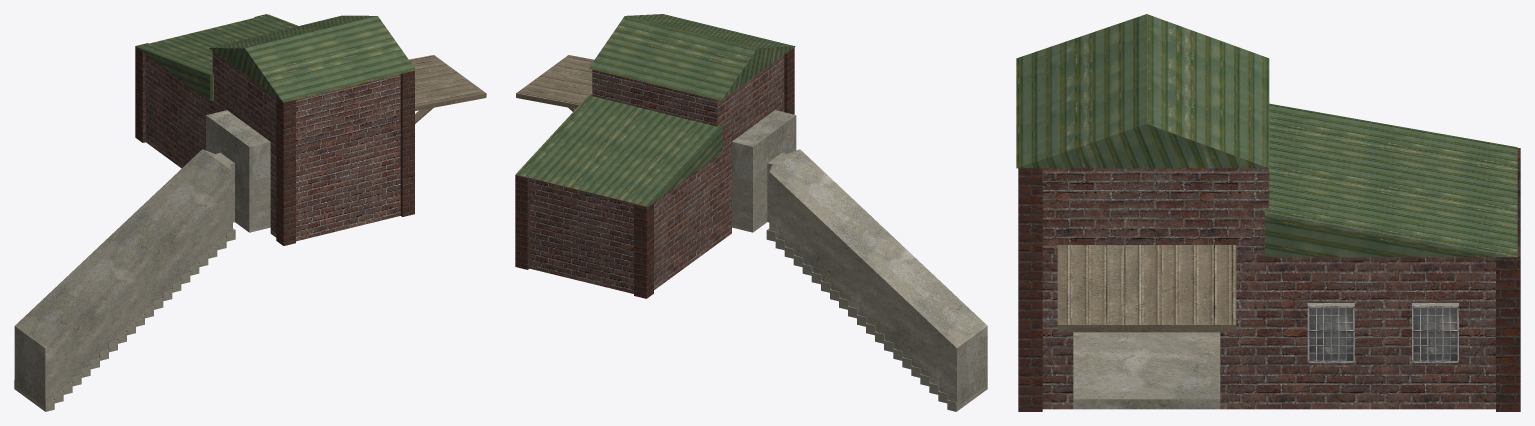
The model's file is buildingTransition.fbx.
3 views of the same model, side by side, from view 1: azimuth 30°, elevation 25°; view 2: azimuth 150°, elevation 25°; view 3: azimuth 270°, elevation 25° (orthographic). The views are drawn at different scales.
Parts seen in each view (by area): view 1: Cube.003, Cube, Plane.001, Cube.001, Plane, Cube.004, Cube.008; view 2: Cube.003, Cube, Plane, Plane.001, Cube.001, Cube.004, Cube.008; view 3: Cube, Plane.001, Plane, Cube.004, Cube.003, Cube.001, Cube.002, Cube.006.
Boxes of the visible parts, bbox=[...] form: Cube.003: bbox=[14, 110, 270, 406]; Cube: bbox=[146, 51, 400, 241]; Plane.001: bbox=[209, 15, 415, 102]; Cube.001: bbox=[135, 14, 414, 245]; Plane: bbox=[136, 14, 298, 101]; Cube.004: bbox=[409, 55, 486, 110]; Cube.008: bbox=[14, 228, 235, 411]; Cube.003: bbox=[732, 110, 987, 406]; Cube: bbox=[529, 55, 784, 293]; Plane: bbox=[515, 94, 722, 206]; Plane.001: bbox=[589, 14, 795, 100]; Cube.001: bbox=[515, 47, 794, 298]; Cube.004: bbox=[516, 55, 594, 108]; Cube.008: bbox=[766, 228, 987, 411]; Cube: bbox=[1042, 168, 1495, 409]; Plane.001: bbox=[1016, 14, 1269, 168]; Plane: bbox=[1264, 103, 1517, 257]; Cube.004: bbox=[1057, 245, 1236, 332]; Cube.003: bbox=[1073, 332, 1220, 409]; Cube.001: bbox=[1018, 148, 1520, 411]; Cube.002: bbox=[1307, 303, 1354, 363]; Cube.006: bbox=[1412, 303, 1458, 363].
Size of the model in its own units: 3438 by 2290 by 2057.
